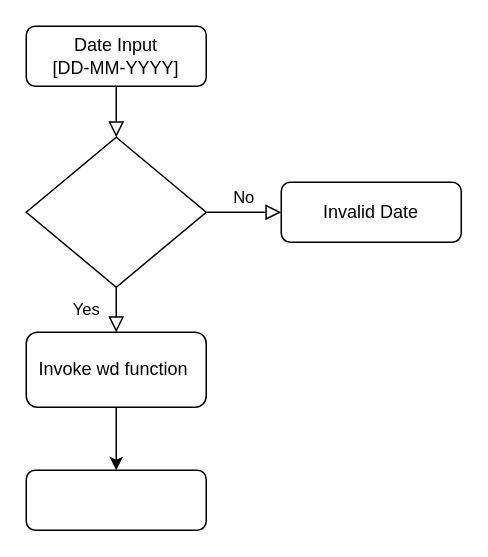
The diagram is 488 pixels wide and 557 high, and some of its shapes have lost their labels. Here are the shapes that lost their labels. From the top down, the centre of each, then its label:
[115,211]: Is the date valid?
[115,499]: Prints the day for the given date
